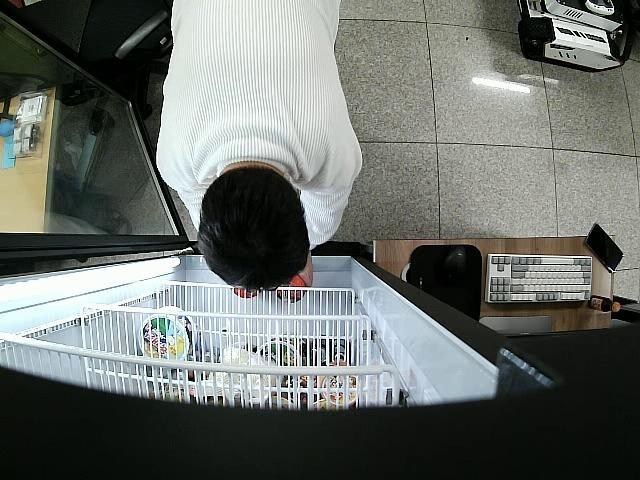02_shinRamen_S: (275, 277, 307, 303)
